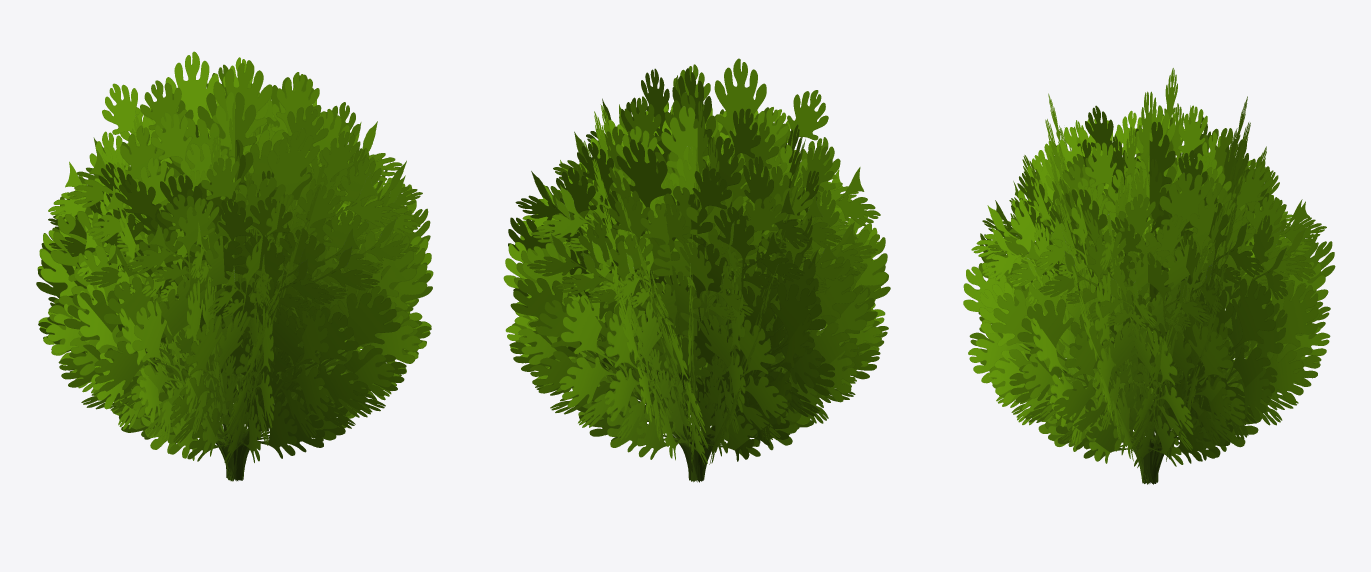
Rendered from Bush.fbx.
3 views of the same model, side by side, from view 1: azimuth 30°, elevation 25°; view 2: azimuth 150°, elevation 25°; view 3: azimuth 270°, elevation 25° (orthographic). The views are drawn at different scales.
Visible parts, largest first — view 1: bush; view 2: bush; view 3: bush.
Part boxes in pixels (bbox=[...]): bush: bbox=[36, 51, 433, 481]; bush: bbox=[503, 58, 890, 482]; bush: bbox=[963, 68, 1335, 484].
Bounding box in the file's own units: 29.95 × 31.41 × 29.95.
